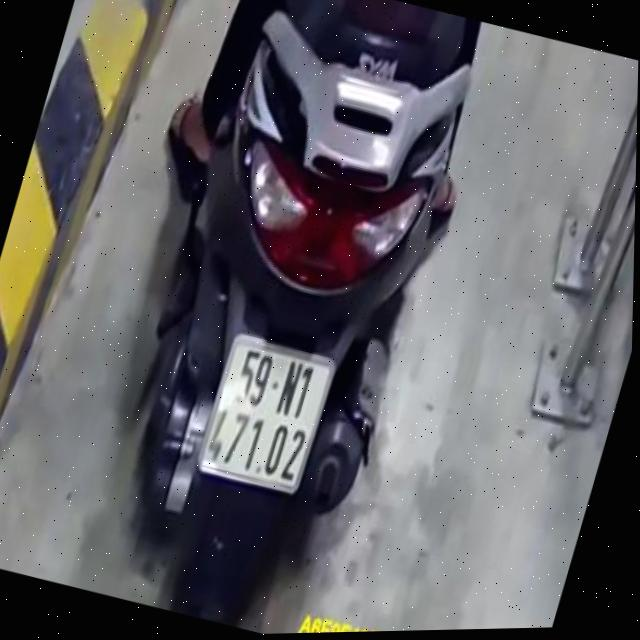motorcycle: (73, 0, 499, 638)
plate: (187, 325, 340, 500)
